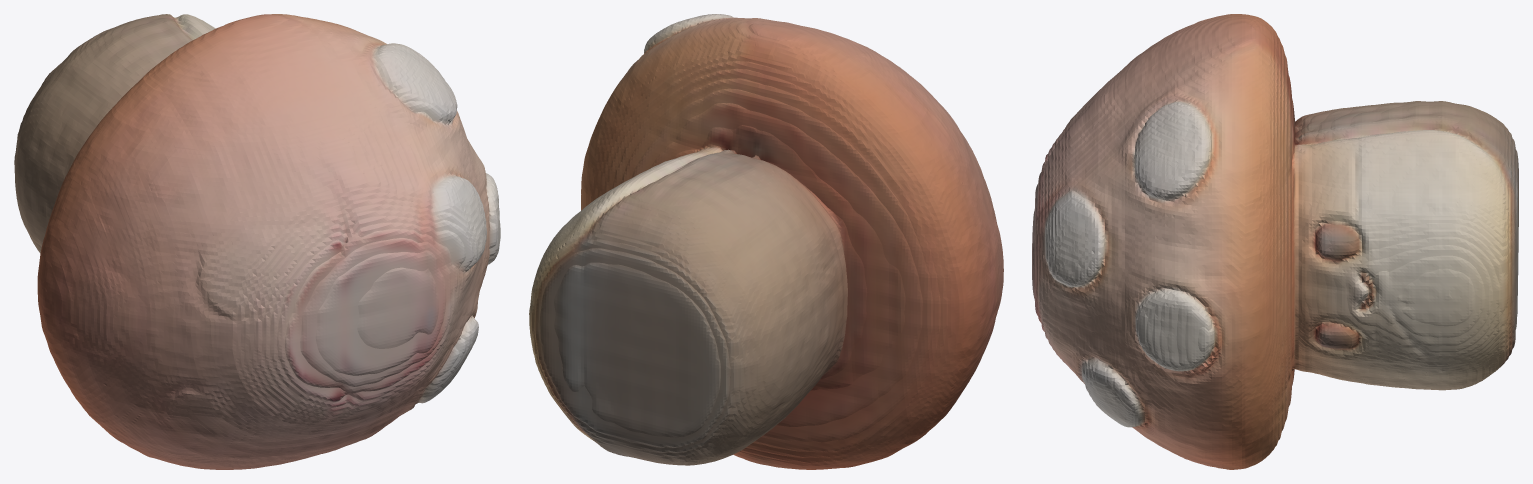
Rendered from triposr_mesh.glb.
3 views of the same model, side by side, from view 1: azimuth 30°, elevation 25°; view 2: azimuth 150°, elevation 25°; view 3: azimuth 270°, elevation 25° (orthographic). The views are drawn at different scales.
Visible parts, largest first — view 1: geometry_0; view 2: geometry_0; view 3: geometry_0.
Part boxes in pixels (<box>): geometry_0: <box>14,14,500,469</box>; geometry_0: <box>529,14,1003,469</box>; geometry_0: <box>1032,14,1518,469</box>.
Bounding box in the file's own units: 0.9533 × 0.9404 × 0.9947.
